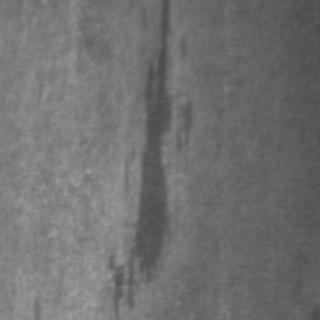inclusion: (101, 0, 171, 314)
